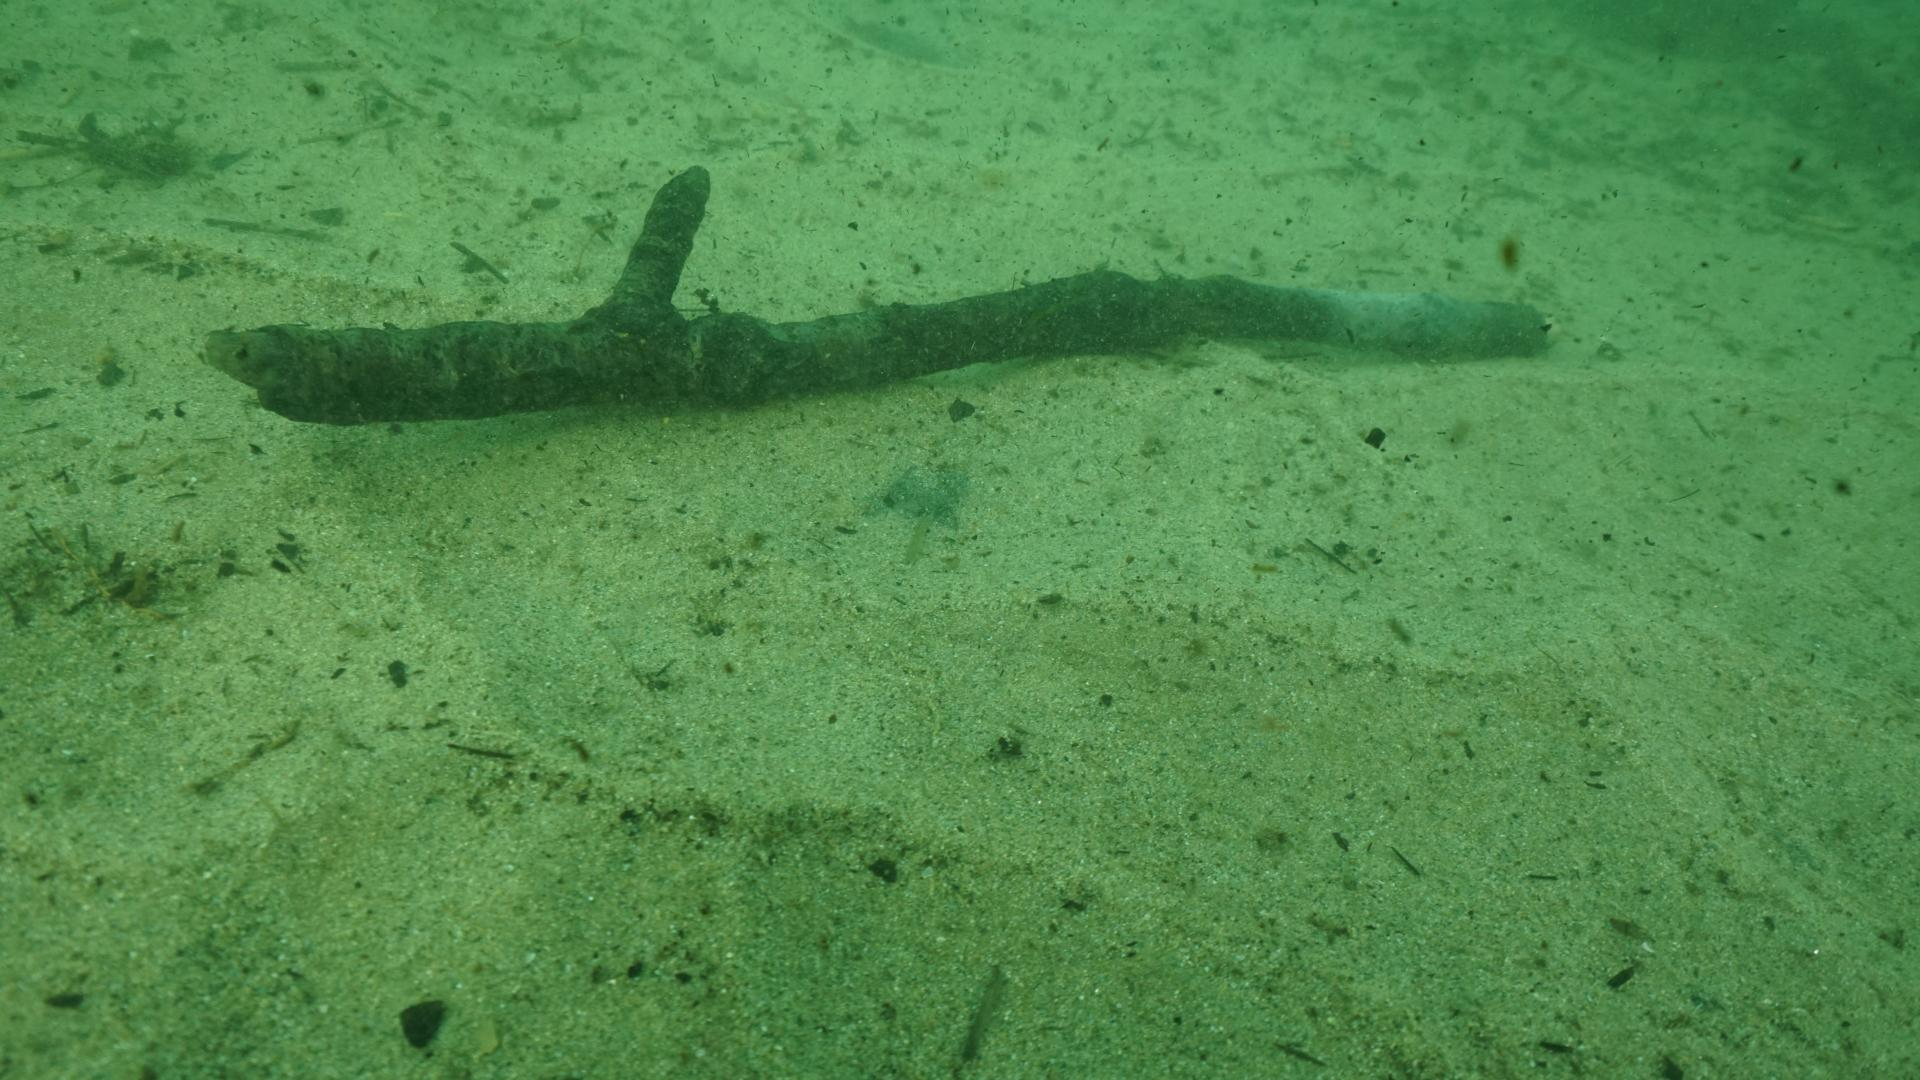wood: (189, 164, 1557, 425)
